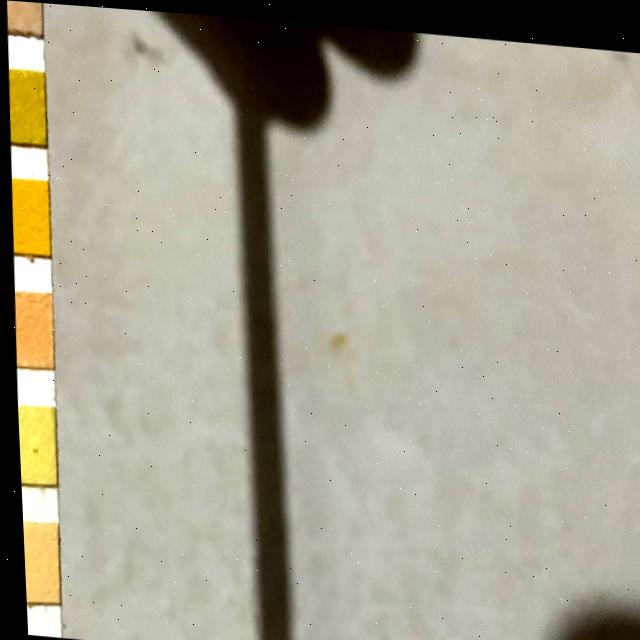Blood: (8, 182, 46, 252)
Ketone: (5, 0, 39, 28)
Protein: (14, 409, 50, 481)
SpGravity: (6, 72, 41, 141)
Urobilinogen: (18, 527, 52, 600)
pH: (10, 294, 48, 363)
